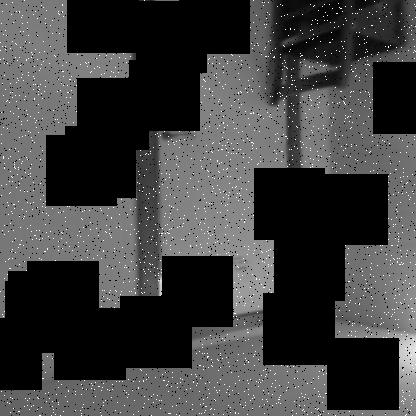Porte: (132, 0, 309, 354)
